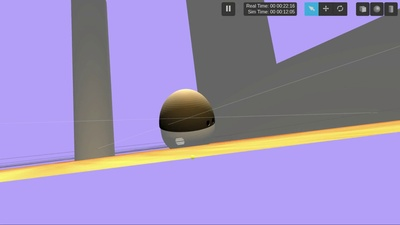mira_robot: (160, 88, 216, 148)
